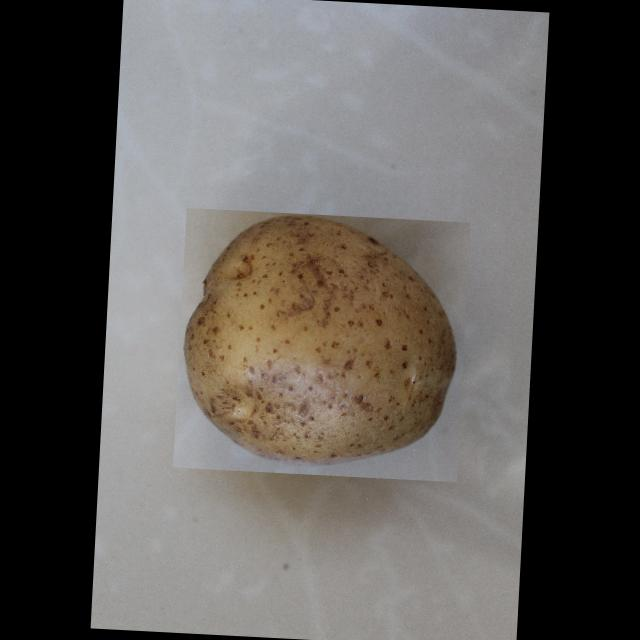Diseased-fungal potato: (173, 206, 470, 482)
